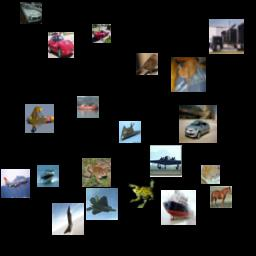airplane: (150, 145, 182, 177), (52, 203, 84, 235), (86, 188, 118, 220), (1, 169, 30, 198), (25, 104, 54, 133), (119, 121, 141, 143)
automobile: (179, 105, 217, 143), (48, 32, 74, 58), (20, 2, 42, 24), (92, 24, 111, 43)
bird: (136, 53, 158, 75)
cat: (171, 57, 206, 92), (201, 165, 220, 184)
frog: (82, 158, 111, 187), (127, 179, 156, 208)
ship: (161, 190, 196, 225), (77, 96, 99, 118), (37, 165, 59, 187)
truck: (209, 19, 244, 54)
